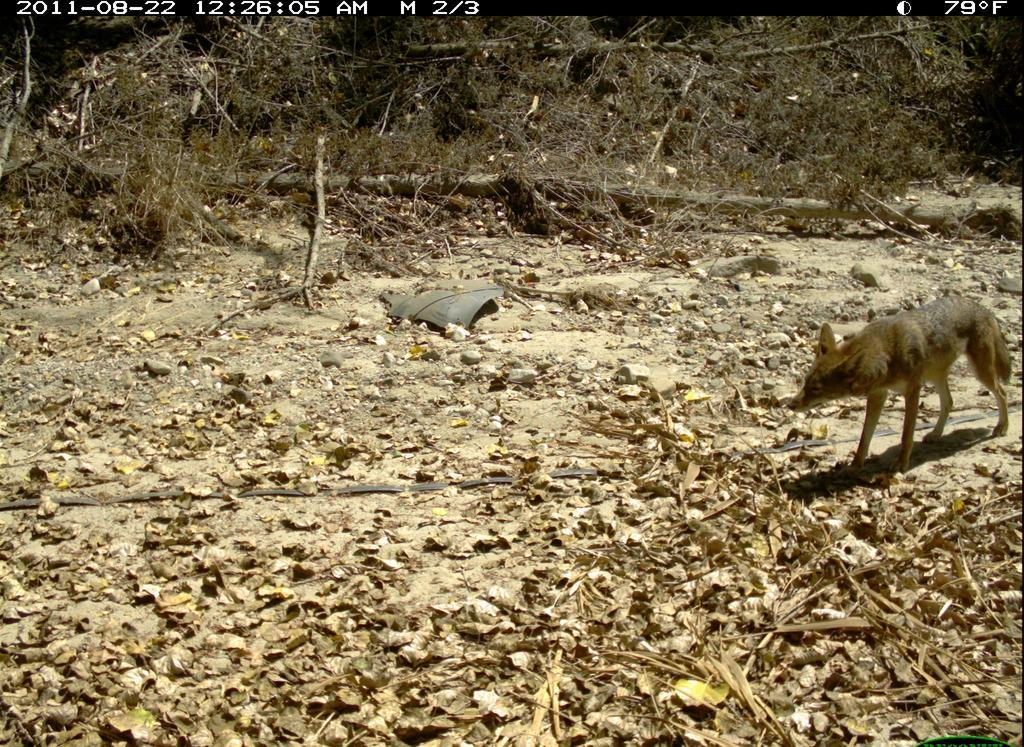coyote: (781, 290, 1022, 478)
